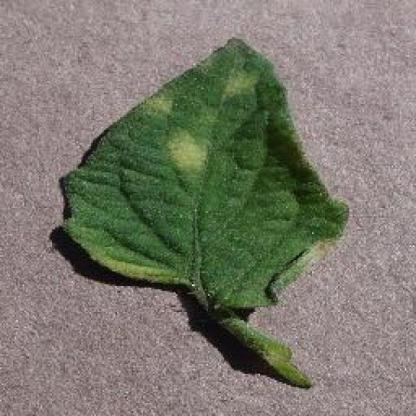Tomato_Leaf_Mold: (62, 38, 350, 310)
